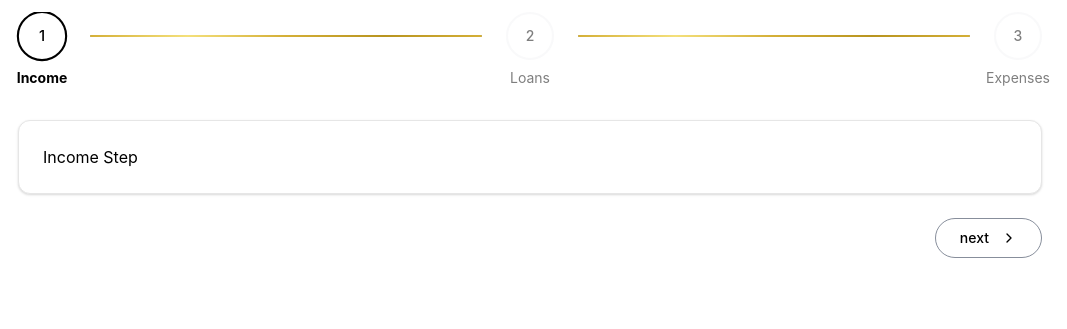
it: WizardLayout › prevents navigation from income step when no kommun is selected
This screenshot has width=1067, height=329.
Try to navigate to next step
Click the button "next" at [988, 238], box [935,218,1042,258]
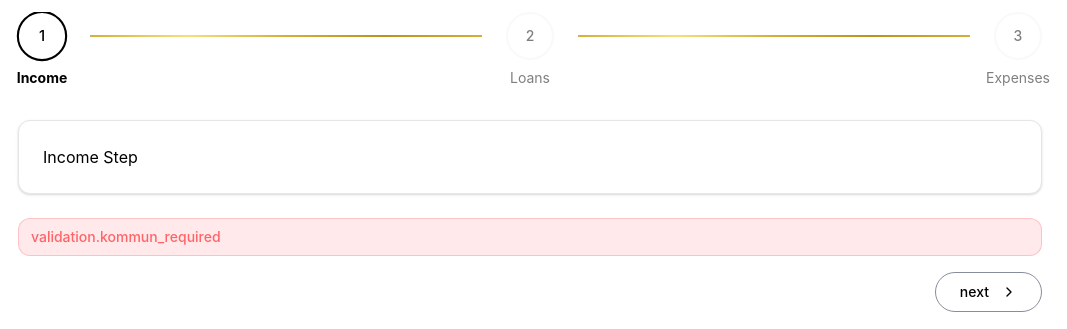
Expected: the text "validation.kommun_required" is shown, [18,218,1042,256]
